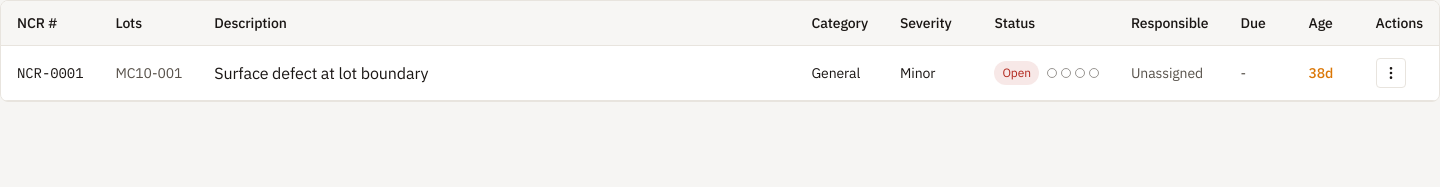
Test case: NCRTable row actions › offers a viewer no assign or workflow action
This screenshot has width=1440, height=187.
Click the button named "More actions for NCR NCR-0001" at {"x": 1391, "y": 73}, box [1376,58,1406,88]
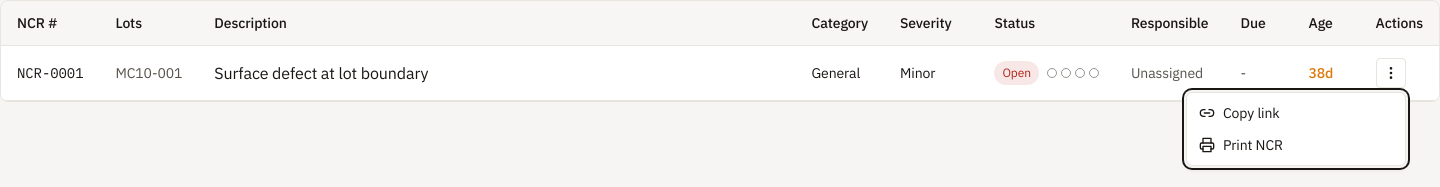
expect the menu item "Copy link" is shown: met, box [1199,104,1280,122]
